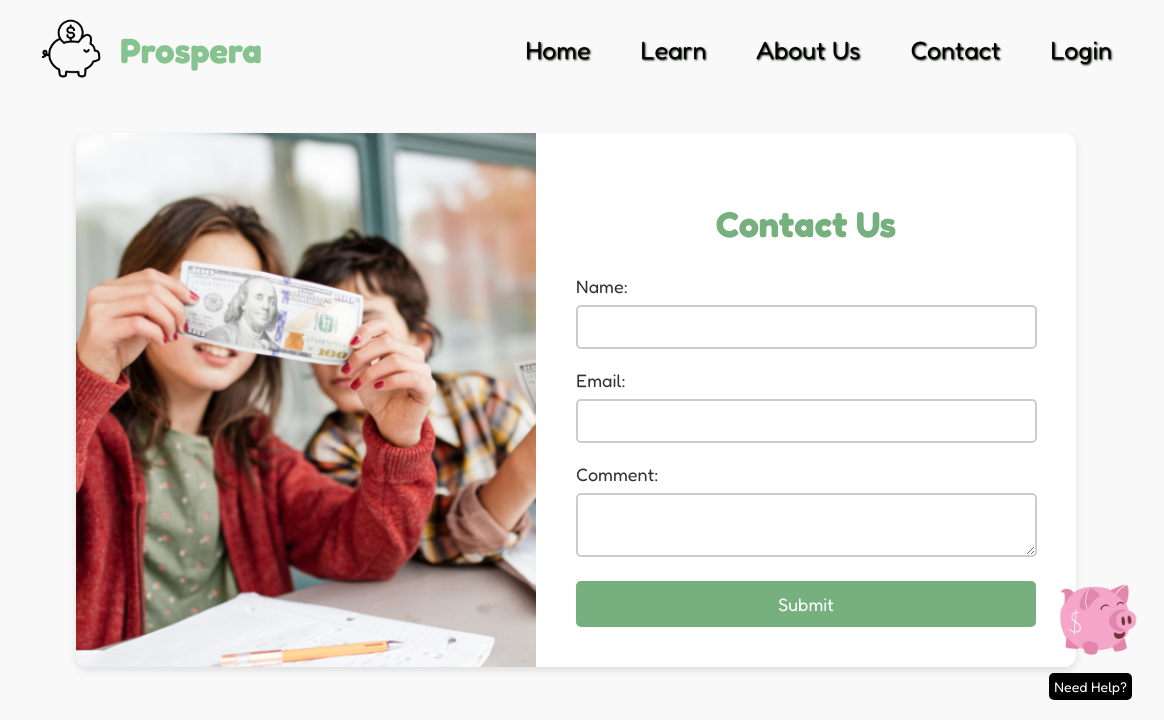
Contact Form Validation › displays error messages for invalid inputs
The width and height of the screenshot is (1164, 720).
Type "invalidemail" into the field named "email". click: (807,421)
box: [576,399,1037,443]
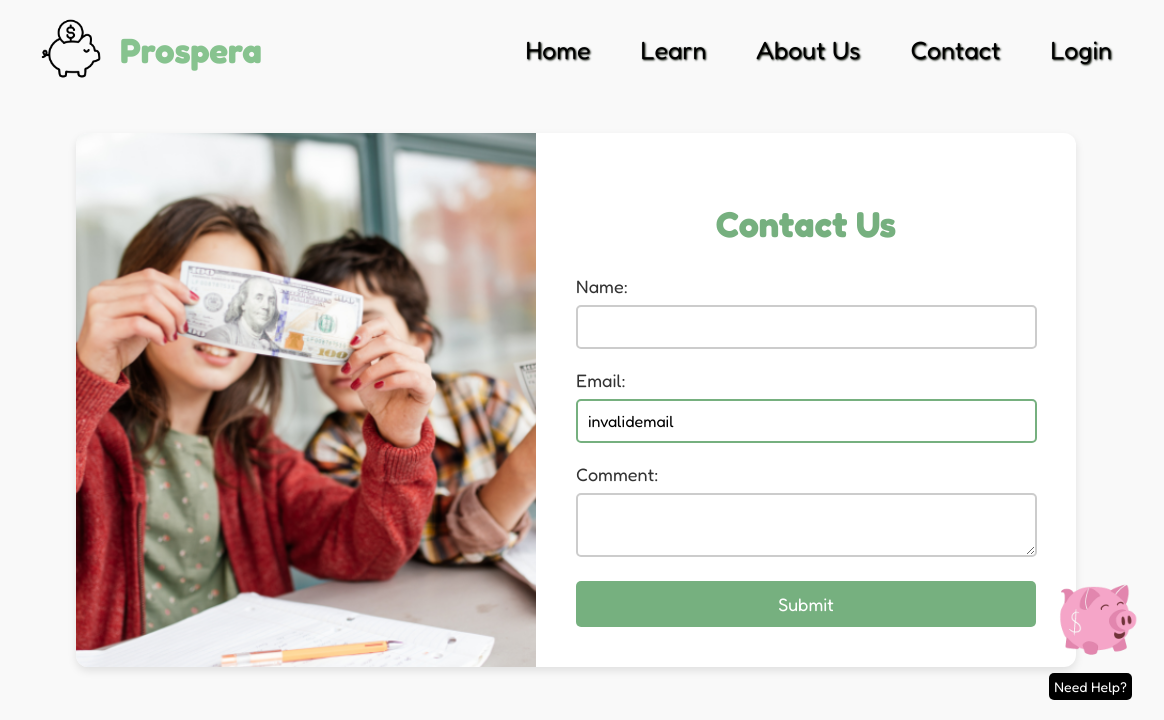
Submit the form, box [576,275,1036,627]
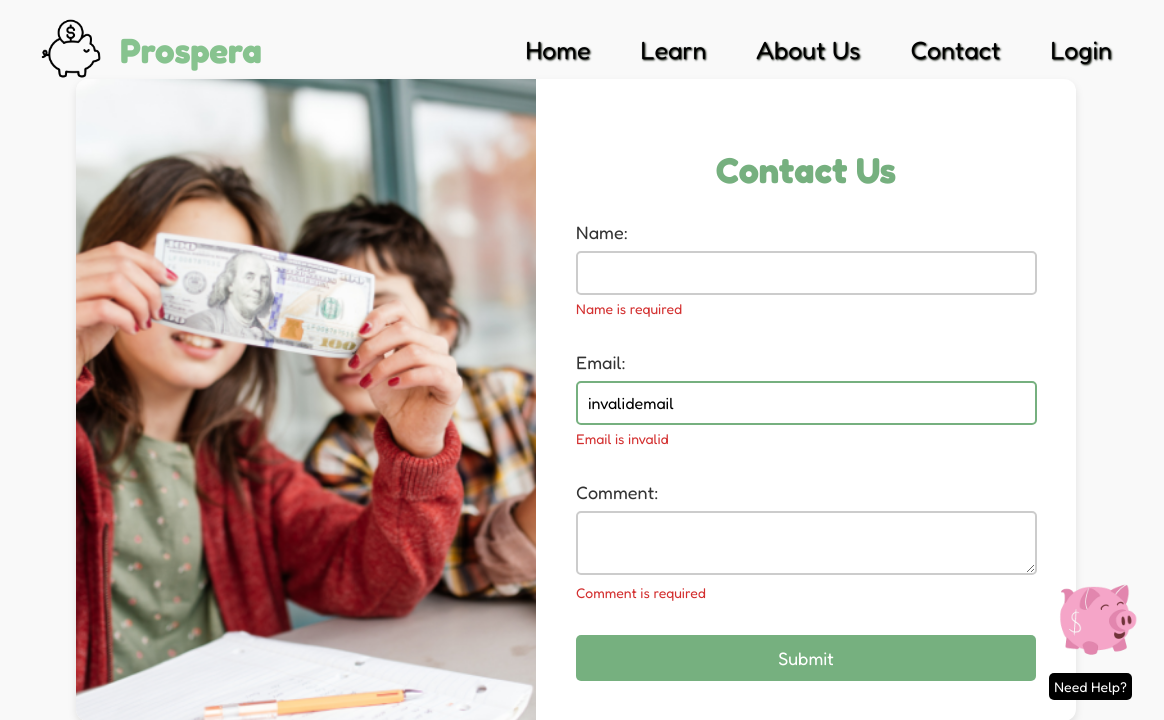
Expected: the text "Name is required" is shown, [576,300,682,317]
Expected: the text "Email is invalid" is shown, [576,430,669,447]
Expected: the text "Comment is required" is shown, [576,584,706,601]
